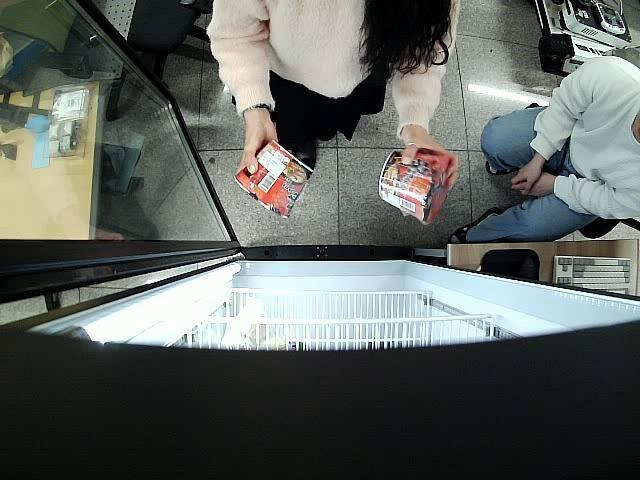01_ShinRamen_L: (232, 140, 314, 220), (378, 150, 453, 228)
